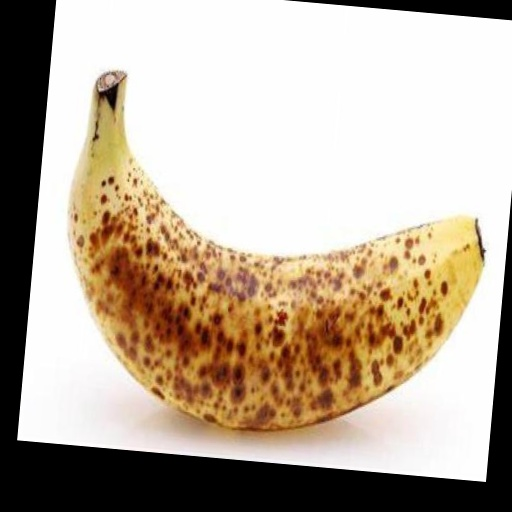fruit: (69, 72, 483, 430)
